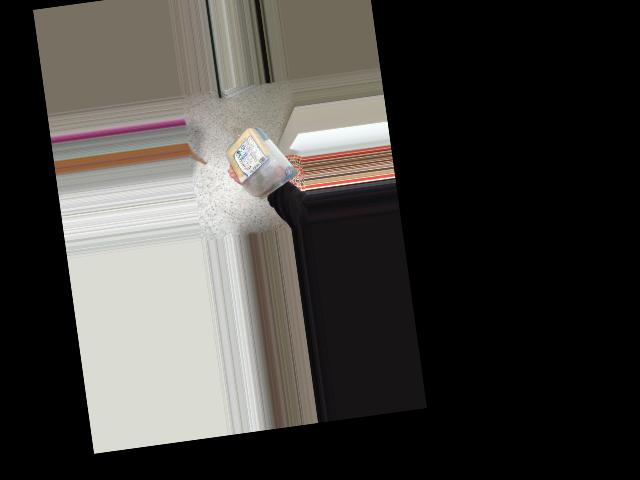cheese: (221, 118, 295, 202)
